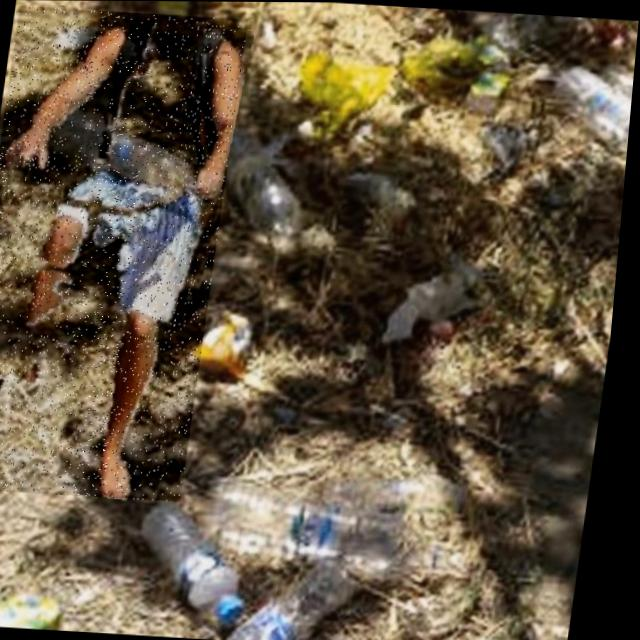Person in Rubble: (0, 6, 249, 501)
